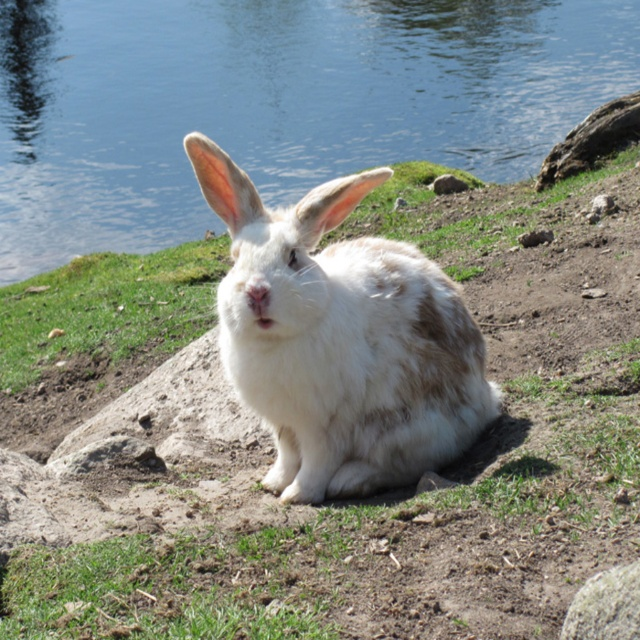Rabbit: (185, 134, 508, 507)
